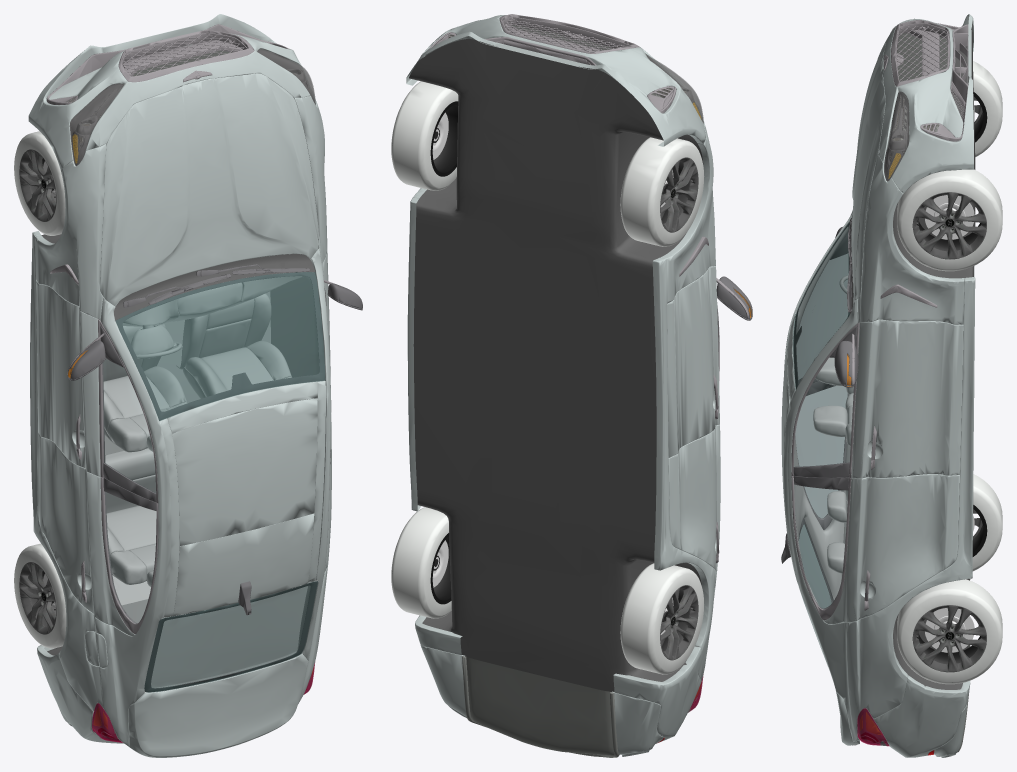
File: genesis_g70-optimized.glb
3 views of the same model, side by side, from view 1: azimuth 30°, elevation 25°; view 2: azimuth 150°, elevation 25°; view 3: azimuth 270°, elevation 25° (orthographic). The views are drawn at different scales.
Parts seen in each view (by area): view 1: Object_2, Object_10, Object_44, Object_43; view 2: Object_2, Object_44, Object_43, Object_10; view 3: Object_2, Object_10, Object_44, Object_43.
Part boxes in pixels (x1,y1,x2,y2): Object_2: (14,14,362,757); Object_10: (66,48,325,742); Object_44: (19,149,56,634); Object_43: (26,158,54,626); Object_2: (391,14,752,757); Object_44: (660,157,698,660); Object_43: (430,101,690,651); Object_10: (448,34,751,742); Object_2: (781,14,1002,757); Object_10: (792,26,938,755); Object_44: (912,105,986,672); Object_43: (918,92,987,664).
Size of the model in its own units: 2.11 by 4.73 by 1.38.
Materials: 8 (8 with a texture image).
